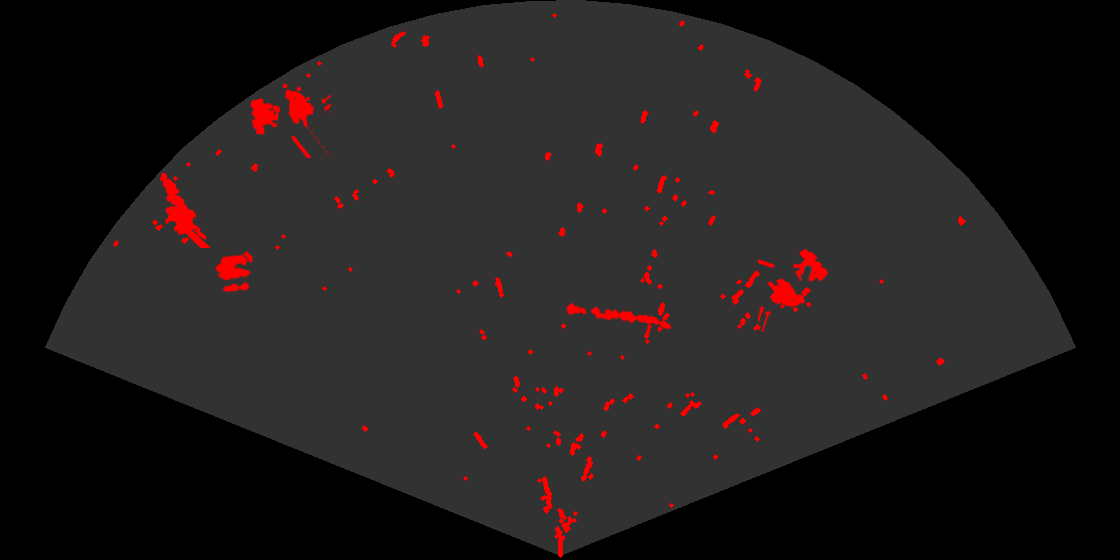ball: (214, 253, 252, 294)
cage: (249, 82, 331, 158), (758, 247, 830, 332)
chain: (564, 301, 673, 331)
frogman: (158, 171, 212, 248)
